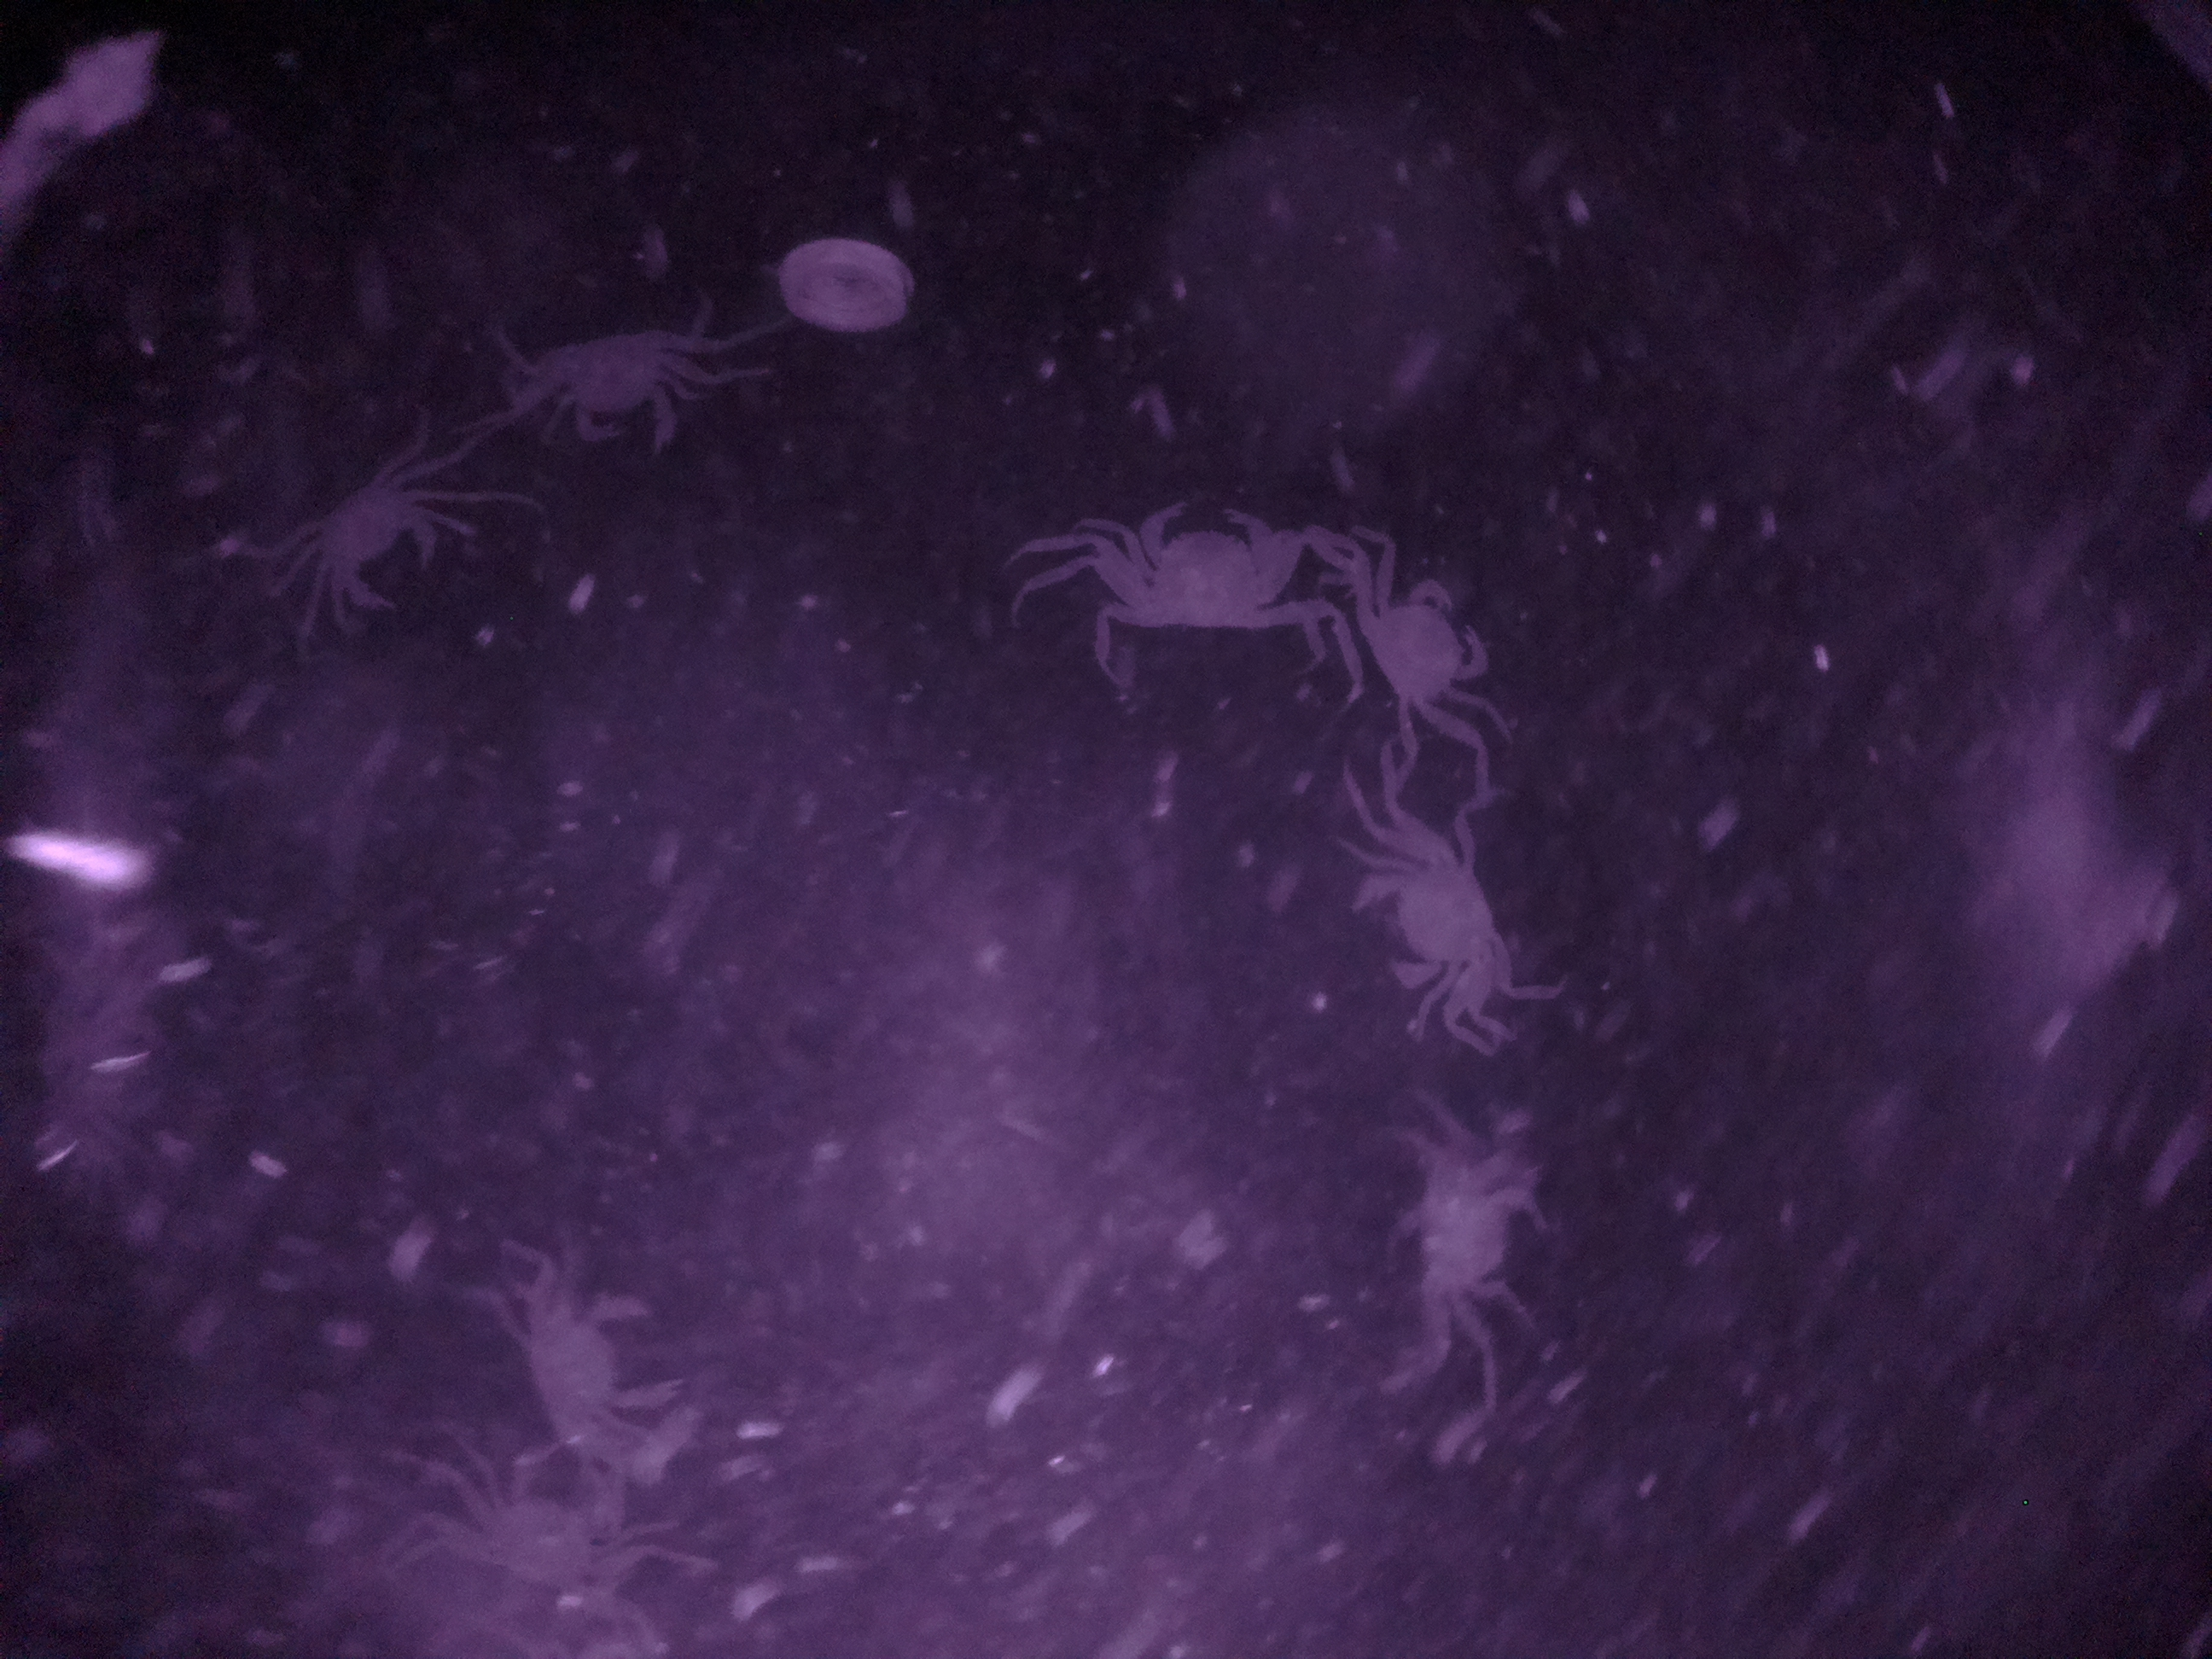Crab: (1345, 824, 1522, 1016), (1082, 502, 1296, 643), (1332, 558, 1494, 742)
